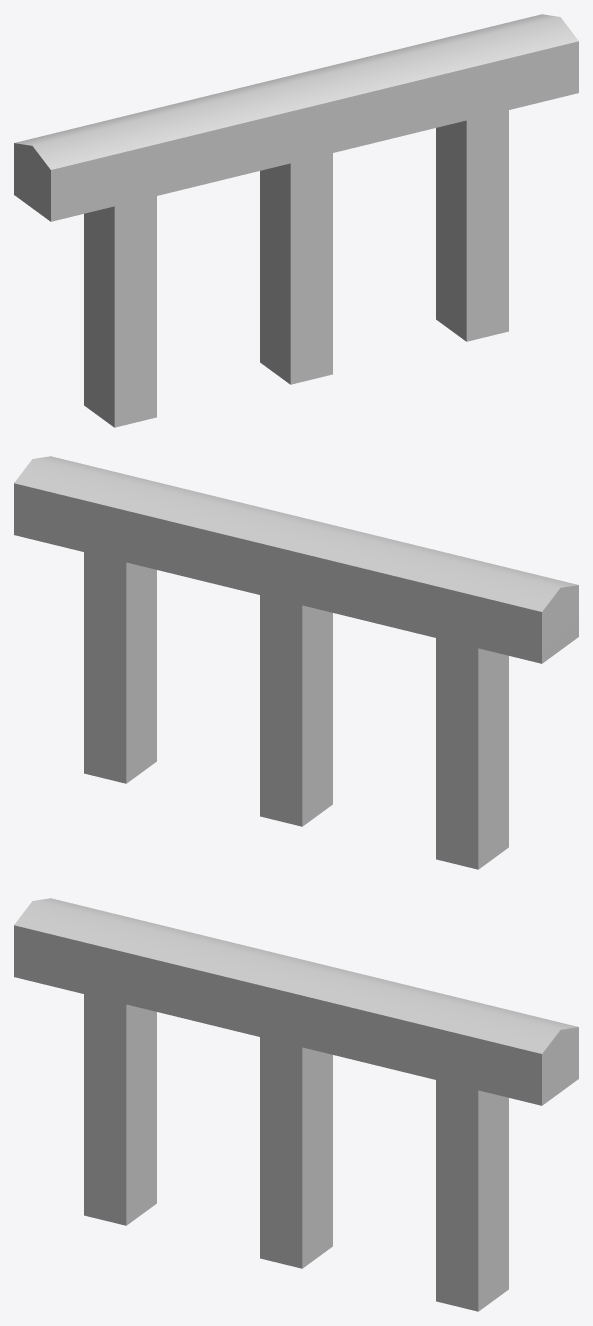
File: ProjectRG_Environment_Sci-Fi_BaseFenceFoundation.fbx
3 views of the same model, one above another, from view 1: azimuth 30°, elevation 25°; view 2: azimuth 150°, elevation 25°; view 3: azimuth 330°, elevation 25° (orthographic).
Visible parts, largest first — view 1: ProjectRG_Environment_Sci-Fi_BaseFenceFoundation; view 2: ProjectRG_Environment_Sci-Fi_BaseFenceFoundation; view 3: ProjectRG_Environment_Sci-Fi_BaseFenceFoundation.
Boxes of the visible parts, left/top/right/bottom form: ProjectRG_Environment_Sci-Fi_BaseFenceFoundation: left=14, top=14, right=578, bottom=427; ProjectRG_Environment_Sci-Fi_BaseFenceFoundation: left=14, top=456, right=578, bottom=869; ProjectRG_Environment_Sci-Fi_BaseFenceFoundation: left=14, top=898, right=578, bottom=1311.
Bounding box in the file's own units: 200 × 104 × 24.21.
